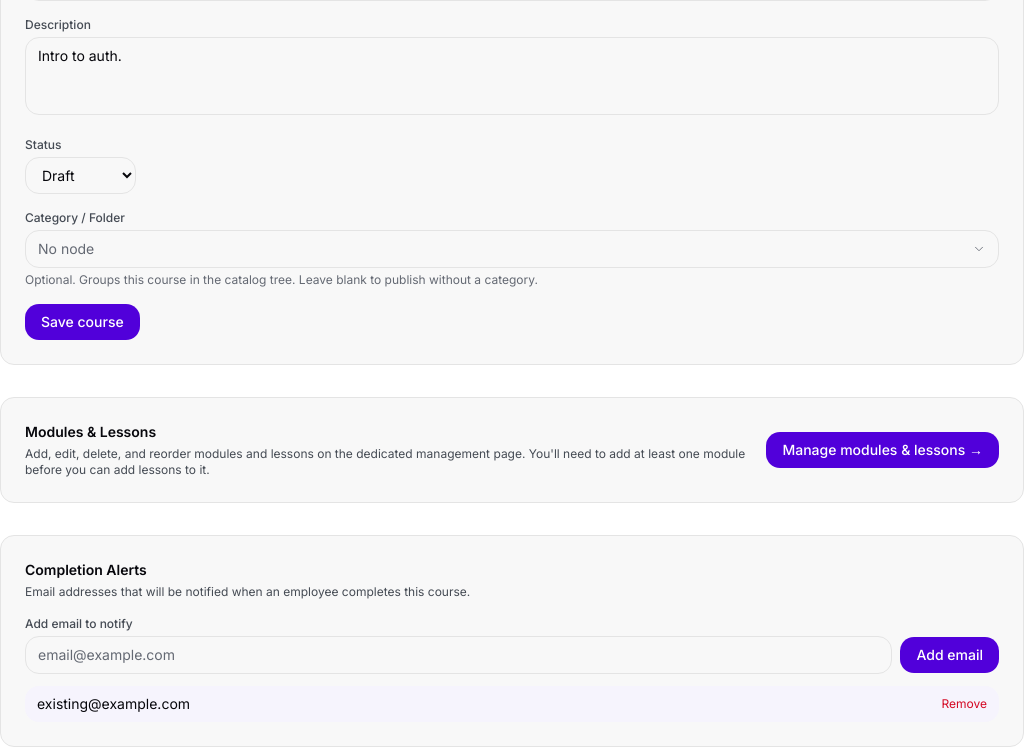
it: CourseEditor — email subscriptions › rejects a duplicate subscription
(page scrolled)
In the field with placeholder "email@example.com": (459, 655) [25, 636, 892, 674], type "existing@example.com"
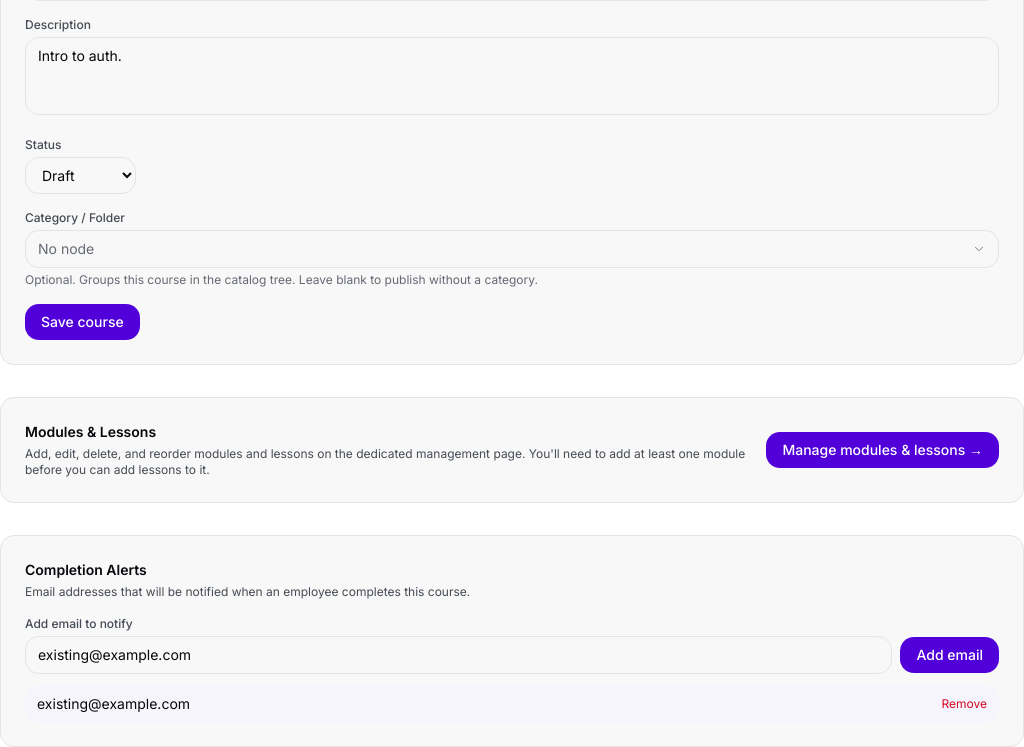
Click the button "Add email": click(950, 655) [900, 637, 999, 673]
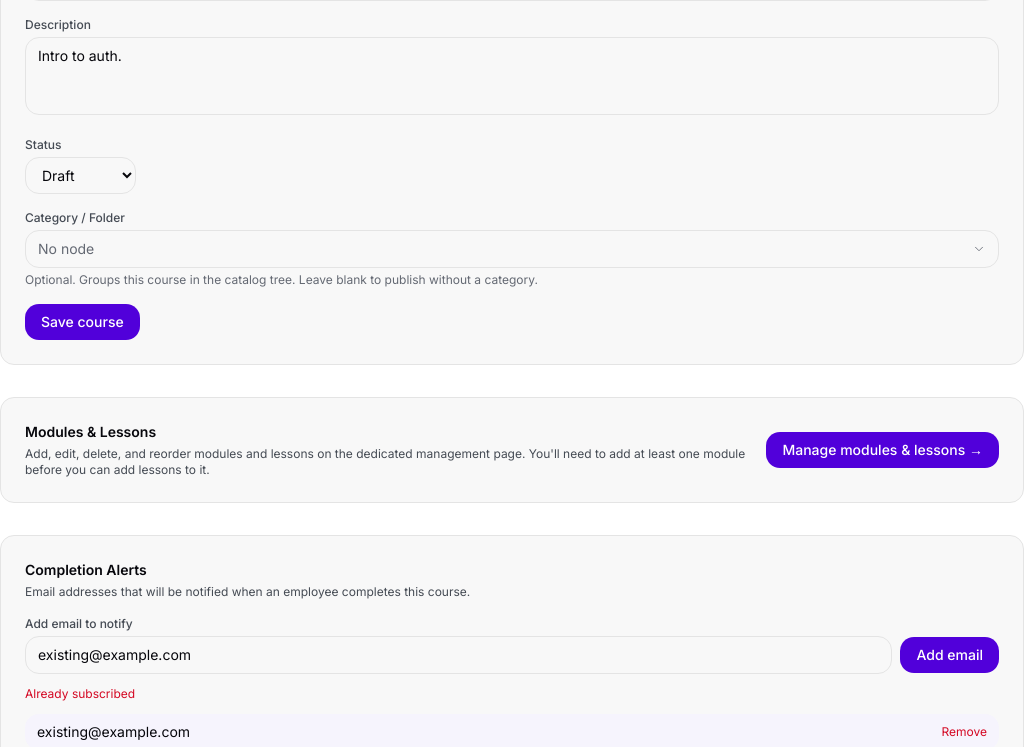
Expected: the text "Already subscribed" is shown, [25, 686, 135, 701]
